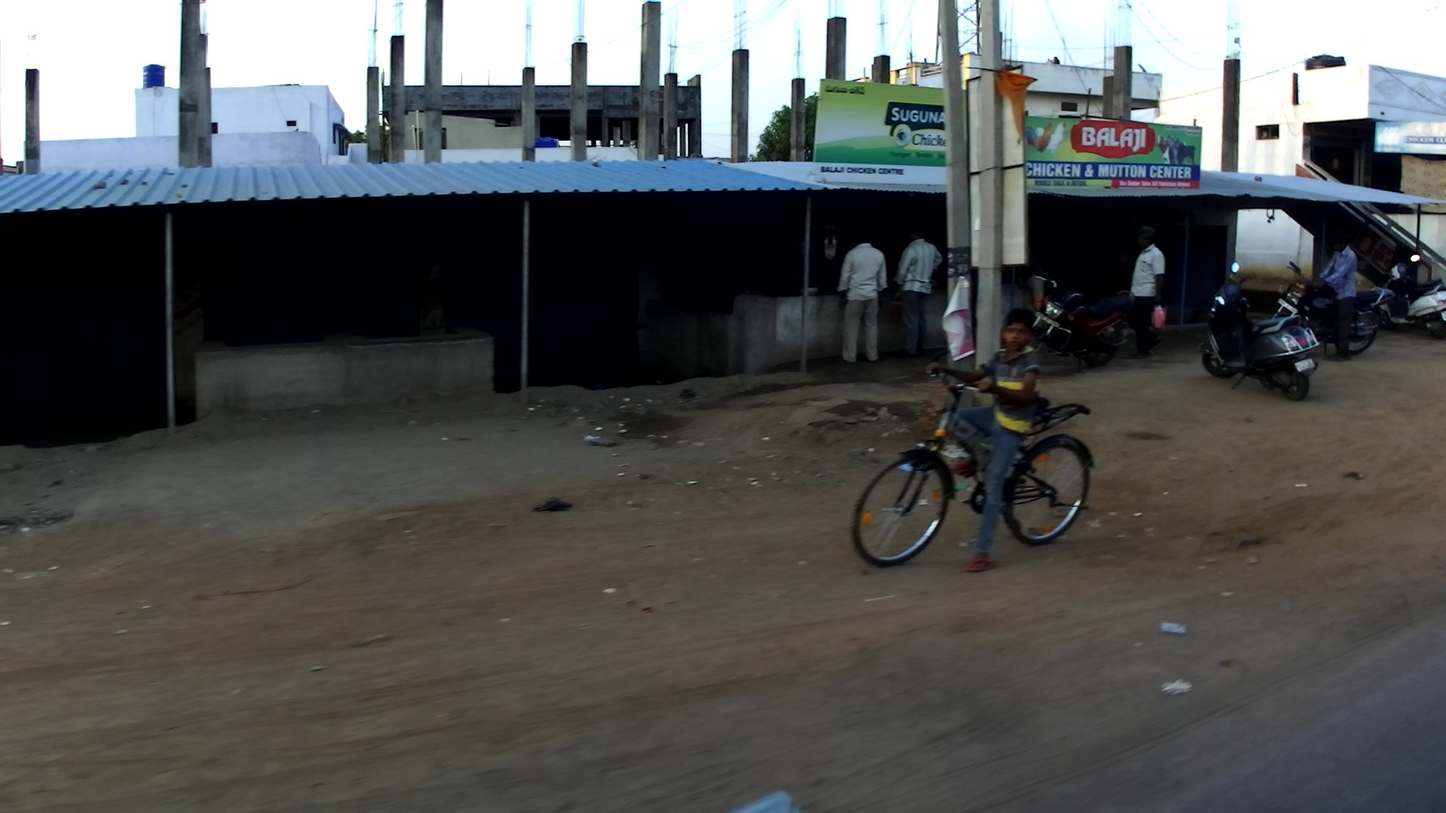bicycle: (849, 364, 1097, 569)
motorcycle: (1197, 260, 1320, 403), (1271, 259, 1394, 360), (1018, 273, 1136, 375), (1382, 253, 1446, 340)
person: (837, 229, 889, 369), (893, 225, 943, 363), (1123, 225, 1168, 361)
rider: (925, 307, 1042, 573), (1312, 235, 1358, 362)
